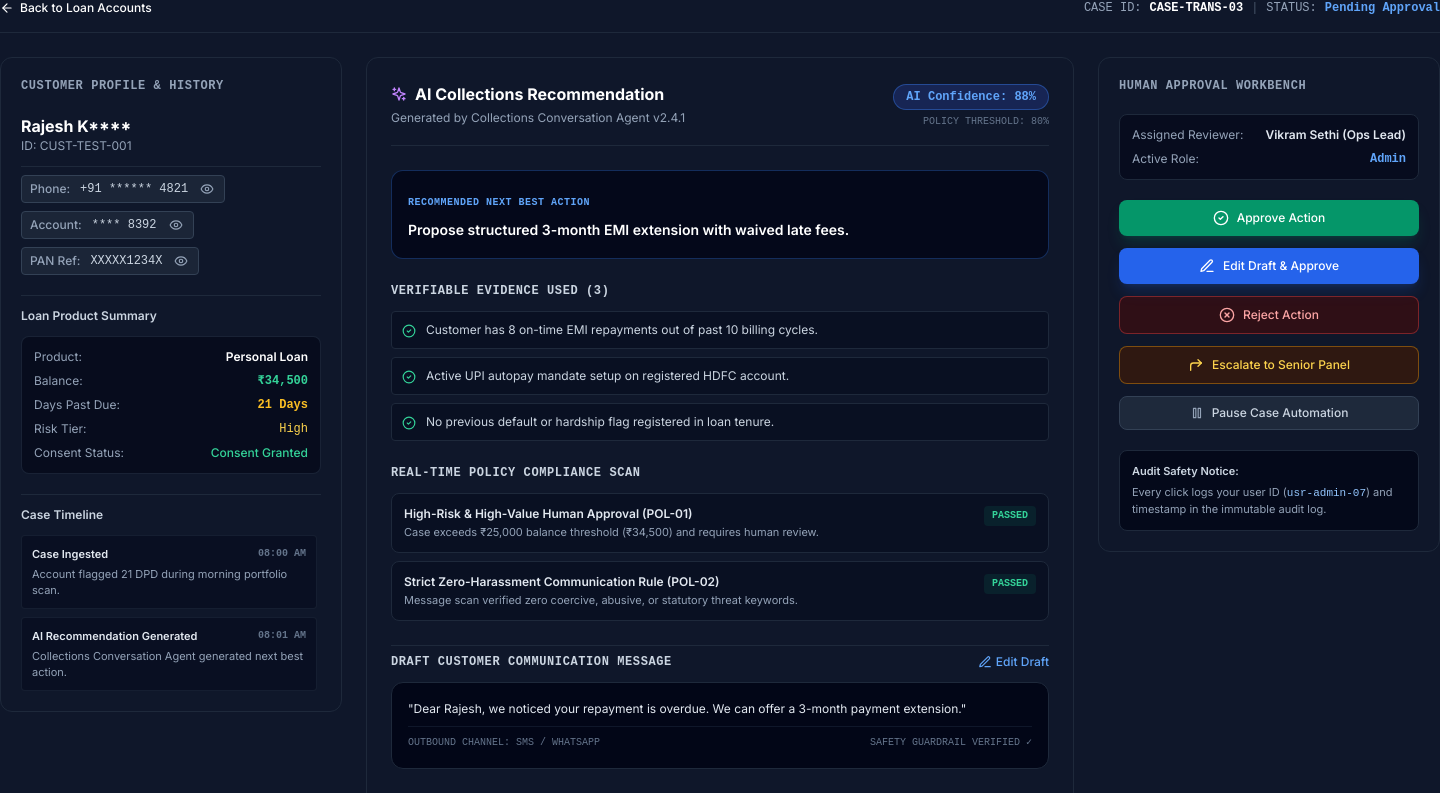
7. Case Workbench Status Transitions & Human Approvals › requires a rejection reason note and transitions status to "Rejected"
// Click Reject Action
Step 1. Click the button "Reject Action" → (1269, 315), box [1119,296,1419,334]
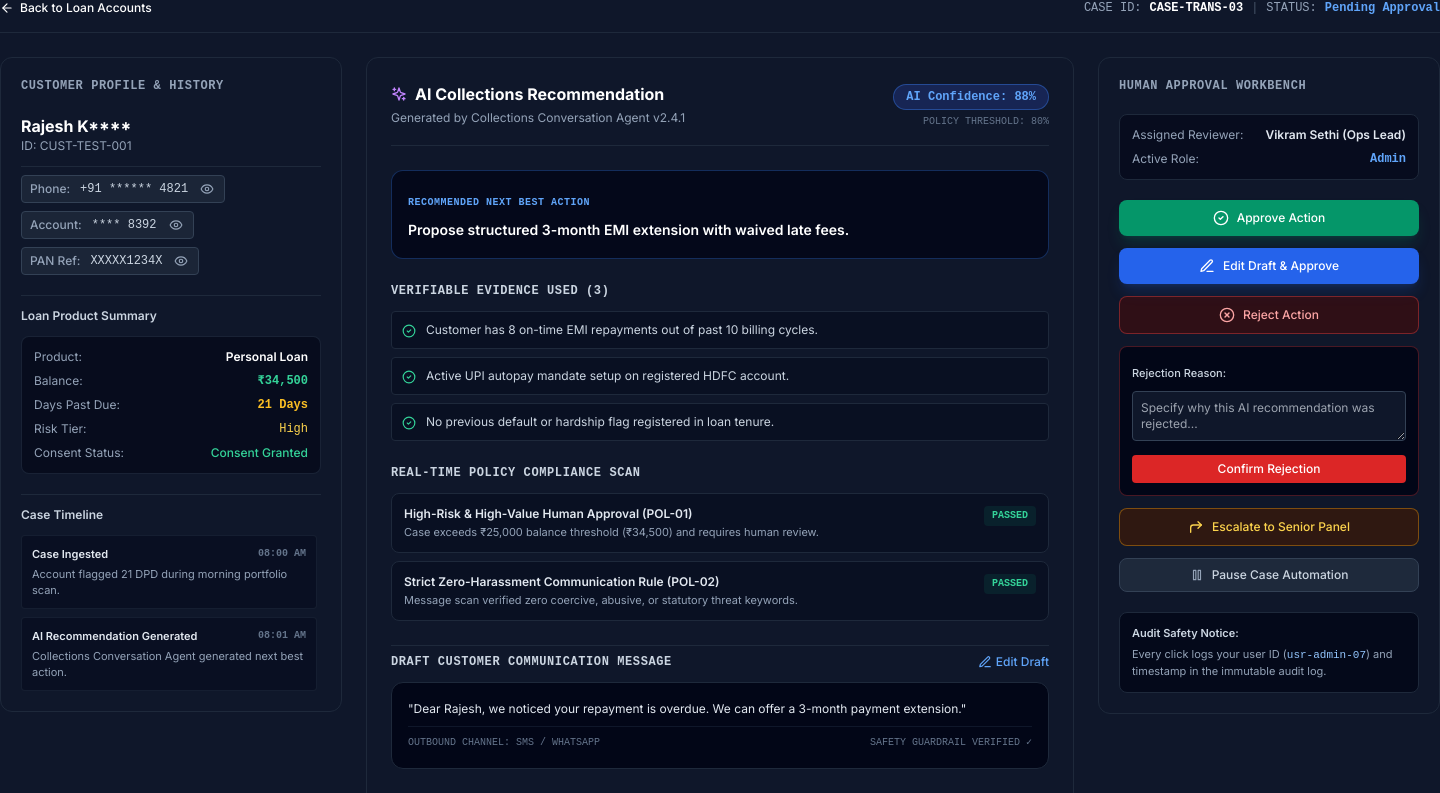
// Reject form appears
Step 2. Type "Customer repayment history requires field agent visit" into the text box with placeholder "Specify why this AI recommendation was rejected..." → (1269, 416), box [1132,391,1406,441]
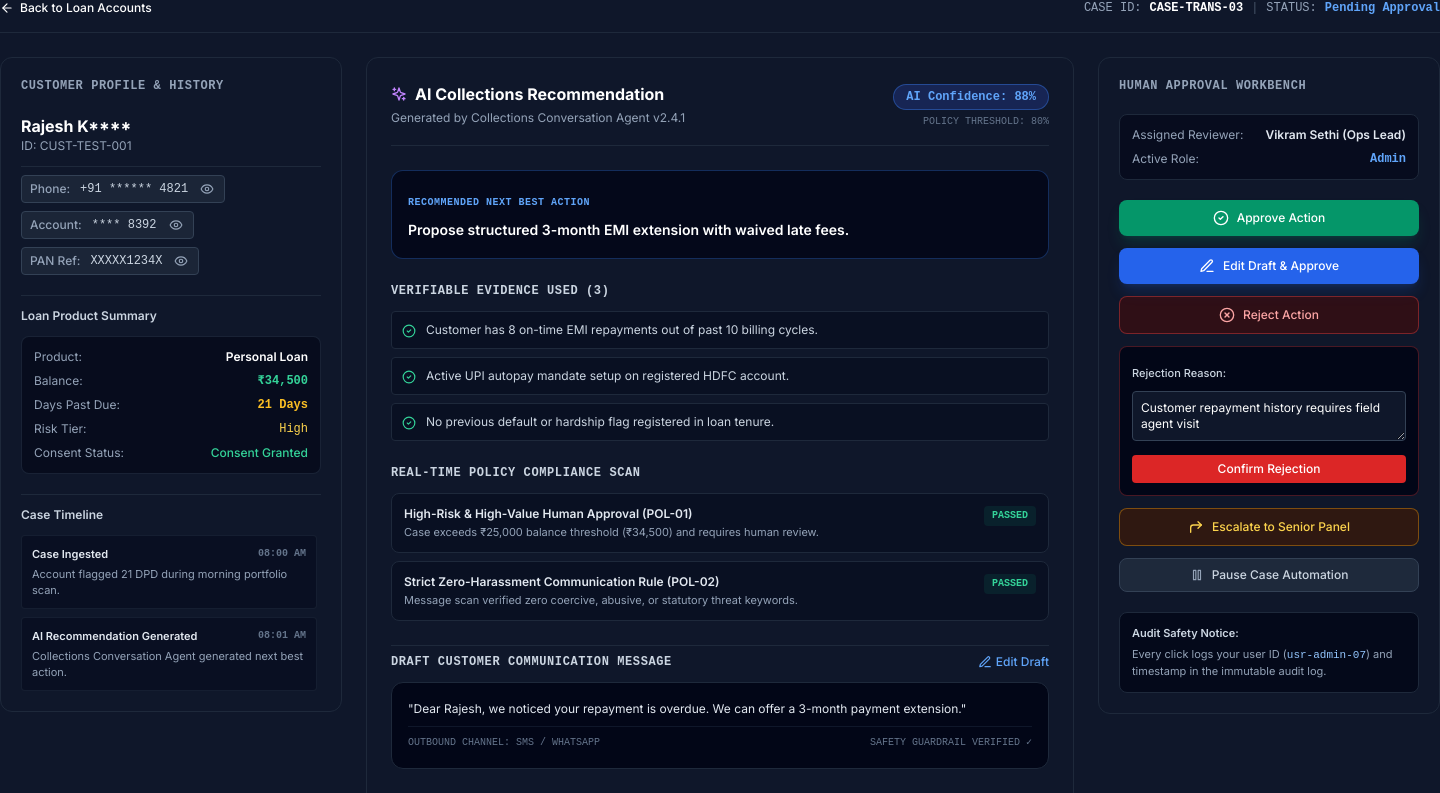
// Confirm rejection
Step 3. Click the button "Confirm Rejection" → (1269, 469), box [1132,455,1406,483]
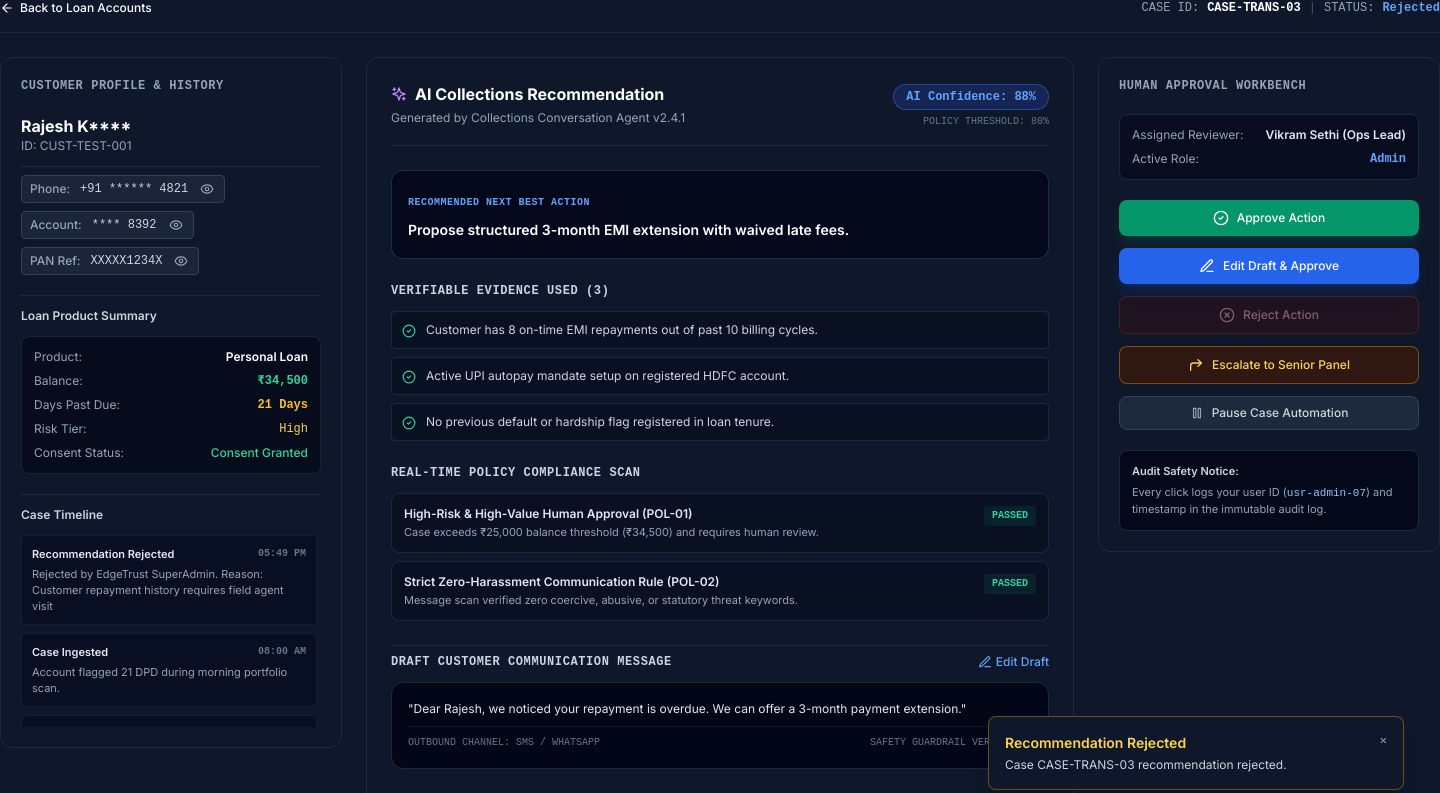
Check: the text "Rejected" is shown, box [1382,0,1439,16]
